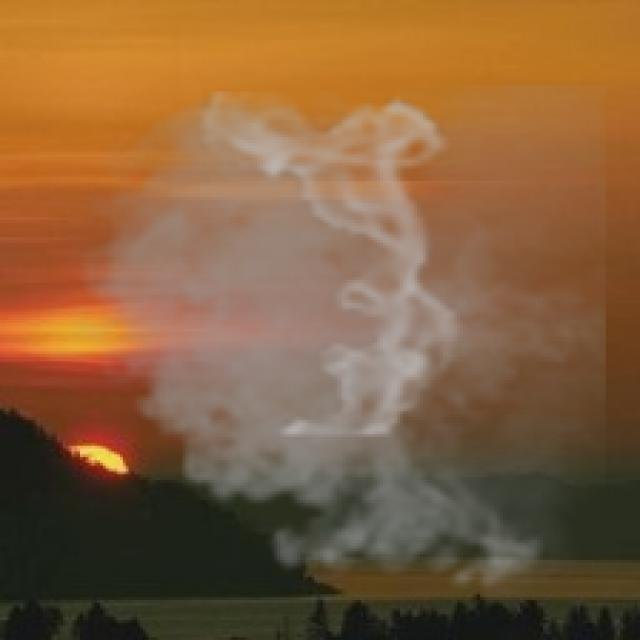smoke: (60, 85, 606, 606)
